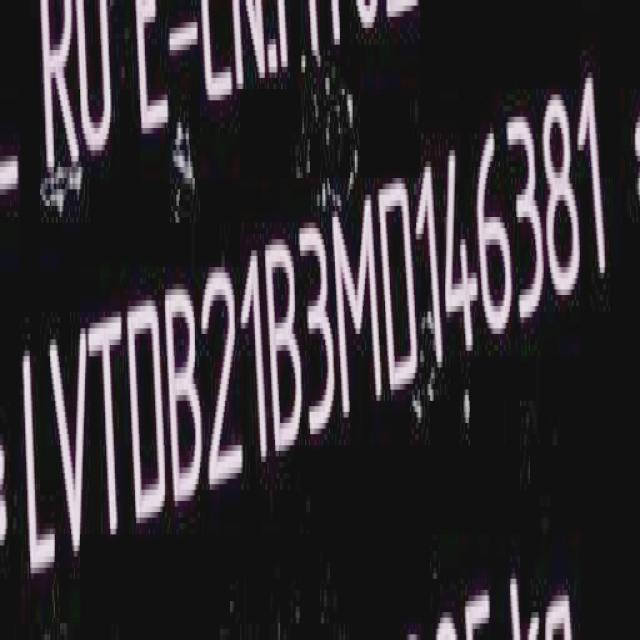1: (239, 255, 268, 474), (582, 81, 612, 291), (416, 161, 443, 380)
2: (203, 277, 244, 492)
3: (300, 215, 338, 439), (512, 105, 544, 328)
4: (441, 147, 478, 361)
6: (477, 128, 513, 340)
8: (545, 91, 580, 308)
B: (165, 285, 208, 511), (268, 232, 306, 457)
D: (123, 299, 166, 528), (384, 175, 424, 396)
L: (18, 340, 57, 576)
M: (335, 197, 387, 419)
T: (88, 308, 128, 549)
V: (44, 321, 94, 564)
